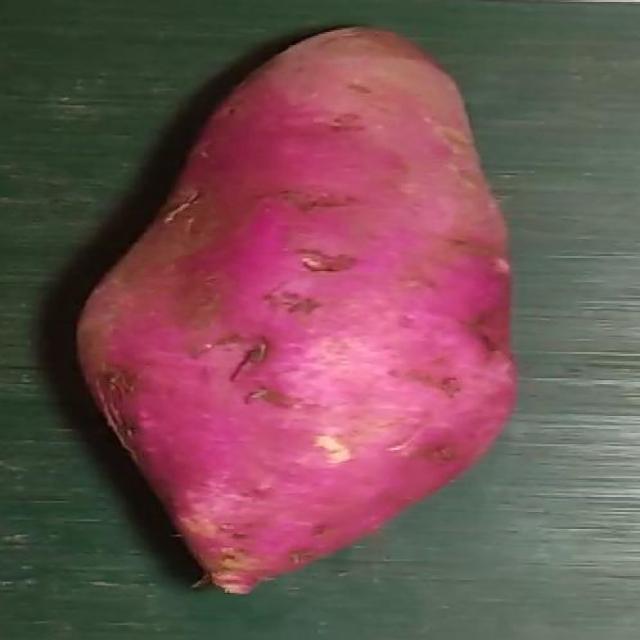Sweet Potato: (77, 27, 518, 598)
